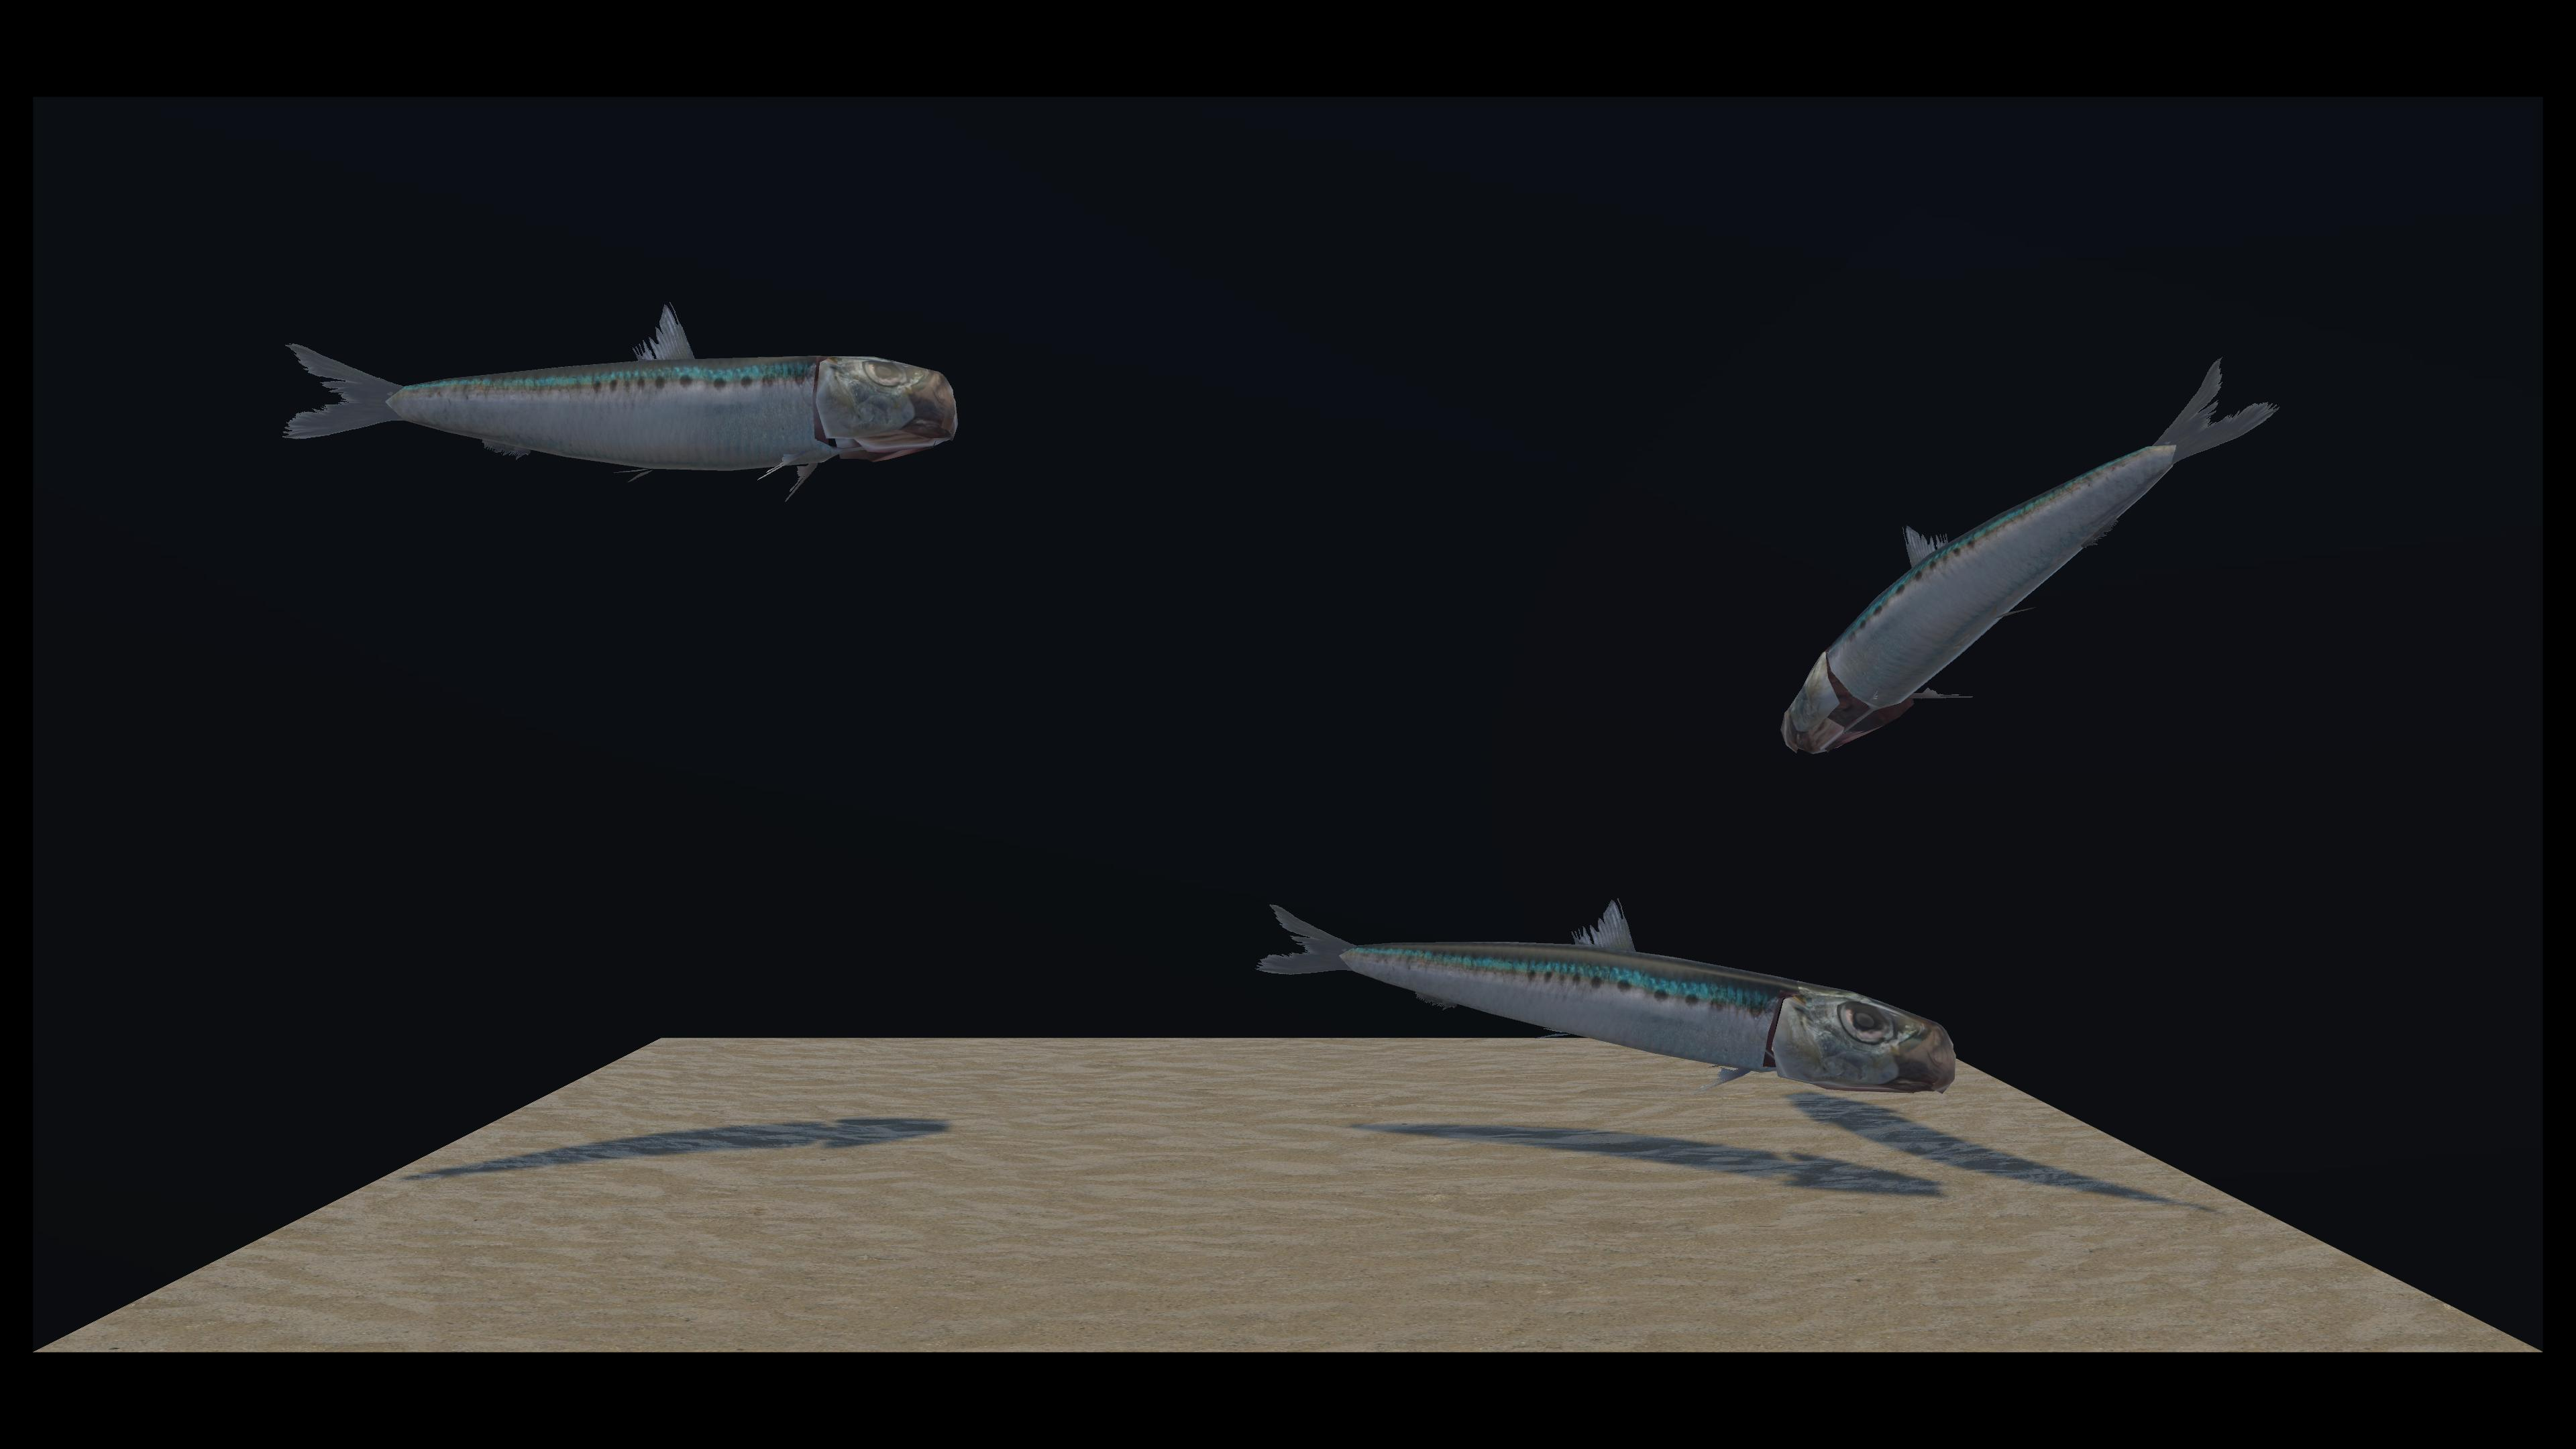Sardine_Front: (883, 345, 1934, 1108), (759, 356, 2277, 708), (292, 317, 936, 506)
